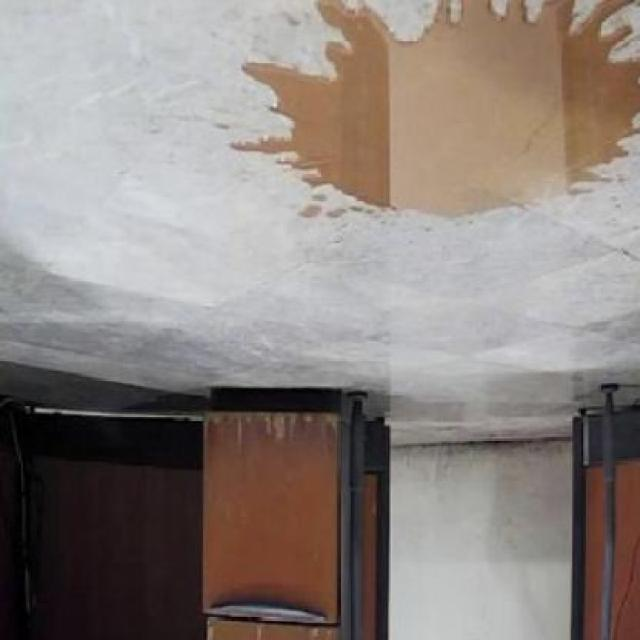spillage: (231, 0, 640, 216)
